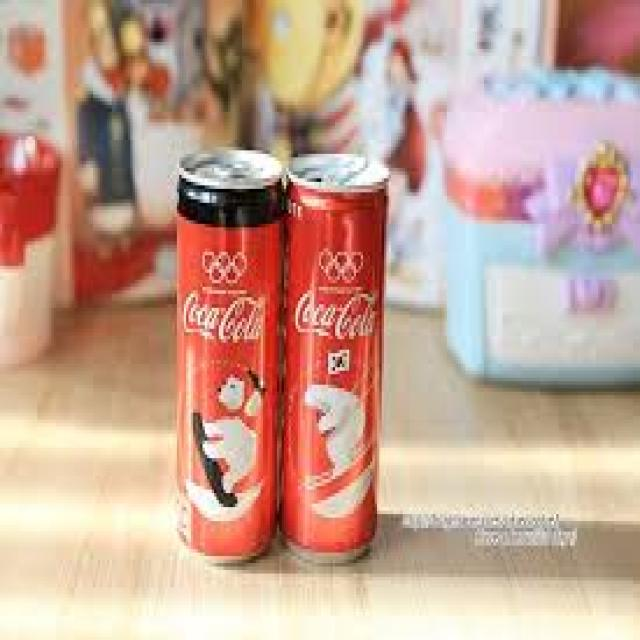Coca-Cola: (283, 145, 382, 568)
